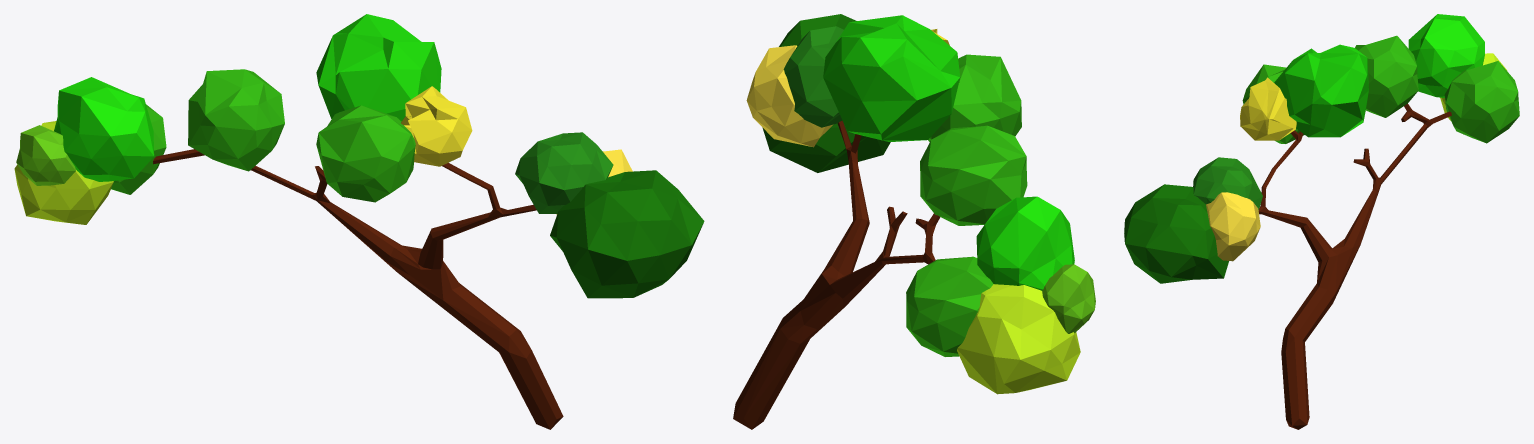
The model's file is low-poly-tree.obj.
3 renders of one model, left to right at view 1: azimuth 30°, elevation 25°; view 2: azimuth 150°, elevation 25°; view 3: azimuth 270°, elevation 25°, orthographic. The views are drawn at different scales.
Visible parts, largest first — view 1: Icosphere.002_Icosphere.005, Cube_Cube.001, Icosphere, Icosphere.005_Icosphere.007, Icosphere.008_Icosphere.010, Icosphere.010_Icosphere.012, Icosphere.003_Icosphere.004, Icosphere.001, Icosphere.006_Icosphere.008, Icosphere.007_Icosphere.009, Icosphere.009_Icosphere.011; view 2: Icosphere, Cube_Cube.001, Icosphere.006_Icosphere.008, Icosphere.008_Icosphere.010, Icosphere.005_Icosphere.007, Icosphere.009_Icosphere.011, Icosphere.010_Icosphere.012, Icosphere.004_Icosphere.006, Icosphere.002_Icosphere.005, Icosphere.003_Icosphere.004, Icosphere.007_Icosphere.009; view 3: Cube_Cube.001, Icosphere.002_Icosphere.005, Icosphere, Icosphere.009_Icosphere.011, Icosphere.005_Icosphere.007, Icosphere.008_Icosphere.010, Icosphere.004_Icosphere.006, Icosphere.001, Icosphere.003_Icosphere.004, Icosphere.010_Icosphere.012.
Boxes of the visible parts, x1=… form: Icosphere.002_Icosphere.005: x1=550, y1=170, x2=704, y2=298; Cube_Cube.001: x1=153, y1=149, x2=563, y2=429; Icosphere: x1=316, y1=14, x2=441, y2=121; Icosphere.005_Icosphere.007: x1=54, y1=77, x2=154, y2=181; Icosphere.008_Icosphere.010: x1=188, y1=69, x2=284, y2=171; Icosphere.010_Icosphere.012: x1=316, y1=105, x2=415, y2=202; Icosphere.003_Icosphere.004: x1=515, y1=132, x2=613, y2=213; Icosphere.001: x1=401, y1=86, x2=472, y2=166; Icosphere.006_Icosphere.008: x1=14, y1=121, x2=113, y2=224; Icosphere.007_Icosphere.009: x1=16, y1=125, x2=75, y2=185; Icosphere.009_Icosphere.011: x1=111, y1=104, x2=166, y2=194; Icosphere: x1=823, y1=15, x2=960, y2=141; Cube_Cube.001: x1=733, y1=120, x2=940, y2=429; Icosphere.006_Icosphere.008: x1=957, y1=284, x2=1080, y2=394; Icosphere.008_Icosphere.010: x1=920, y1=125, x2=1027, y2=225; Icosphere.005_Icosphere.007: x1=976, y1=196, x2=1074, y2=290; Icosphere.009_Icosphere.011: x1=906, y1=256, x2=993, y2=356; Icosphere.010_Icosphere.012: x1=928, y1=54, x2=1021, y2=141; Icosphere.004_Icosphere.006: x1=746, y1=45, x2=833, y2=147; Icosphere.002_Icosphere.005: x1=762, y1=14, x2=890, y2=172; Icosphere.003_Icosphere.004: x1=783, y1=26, x2=843, y2=127; Icosphere.007_Icosphere.009: x1=1042, y1=264, x2=1095, y2=333; Cube_Cube.001: x1=1258, y1=104, x2=1451, y2=429; Icosphere.002_Icosphere.005: x1=1124, y1=184, x2=1228, y2=283; Icosphere: x1=1274, y1=44, x2=1368, y2=137; Icosphere.009_Icosphere.011: x1=1444, y1=61, x2=1519, y2=143; Icosphere.005_Icosphere.007: x1=1408, y1=14, x2=1484, y2=97; Icosphere.008_Icosphere.010: x1=1355, y1=35, x2=1418, y2=117; Icosphere.004_Icosphere.006: x1=1206, y1=192, x2=1260, y2=261; Icosphere.001: x1=1240, y1=77, x2=1296, y2=140; Icosphere.003_Icosphere.004: x1=1193, y1=157, x2=1262, y2=209; Icosphere.010_Icosphere.012: x1=1242, y1=64, x2=1304, y2=143.
Size of the model in its own units: 8.03 by 6.69 by 7.47.
